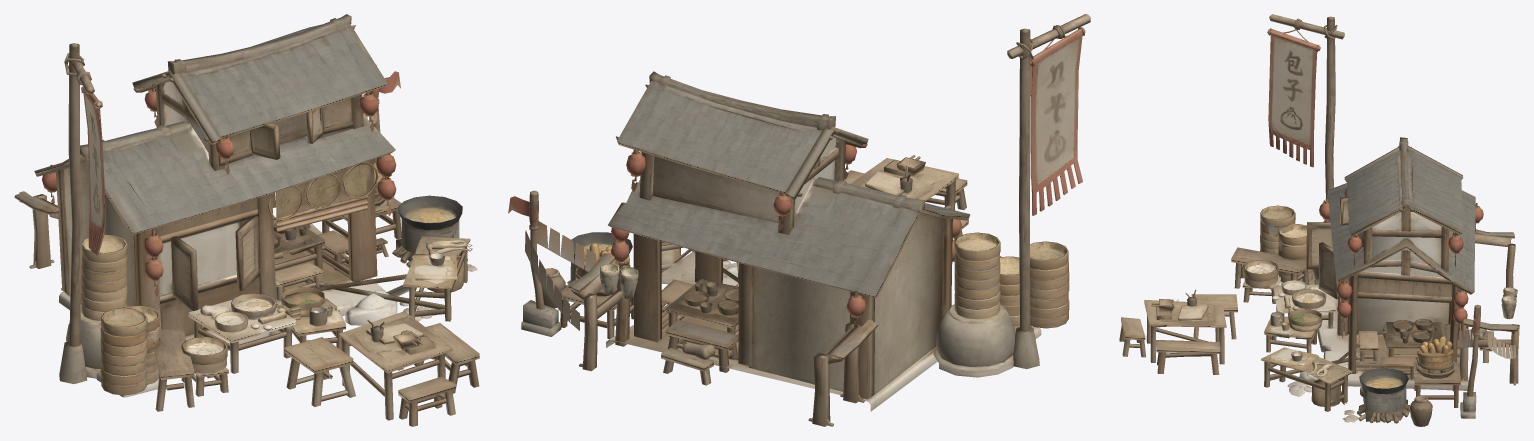
Rendered from tripo_convert_6263df92-710a-4d5f-9fbb-aa1c83ec2b91.glb.
3 renders of one model, left to right at view 1: azimuth 30°, elevation 25°; view 2: azimuth 150°, elevation 25°; view 3: azimuth 270°, elevation 25°, orthographic. The views are drawn at different scales.
Parts seen in each view (by area): view 1: tripo_node_6263df92-710a-4d5f-9fbb-aa1c83ec2b91; view 2: tripo_node_6263df92-710a-4d5f-9fbb-aa1c83ec2b91; view 3: tripo_node_6263df92-710a-4d5f-9fbb-aa1c83ec2b91.
Part boxes in pixels (left/top/right/bottom): tripo_node_6263df92-710a-4d5f-9fbb-aa1c83ec2b91: left=14, top=14, right=479, bottom=426; tripo_node_6263df92-710a-4d5f-9fbb-aa1c83ec2b91: left=508, top=14, right=1090, bottom=426; tripo_node_6263df92-710a-4d5f-9fbb-aa1c83ec2b91: left=1119, top=14, right=1519, bottom=426.
Bounding box in the file's own units: 0.9976 × 0.7065 × 0.9995.
Materials: 1 (1 with a texture image).
